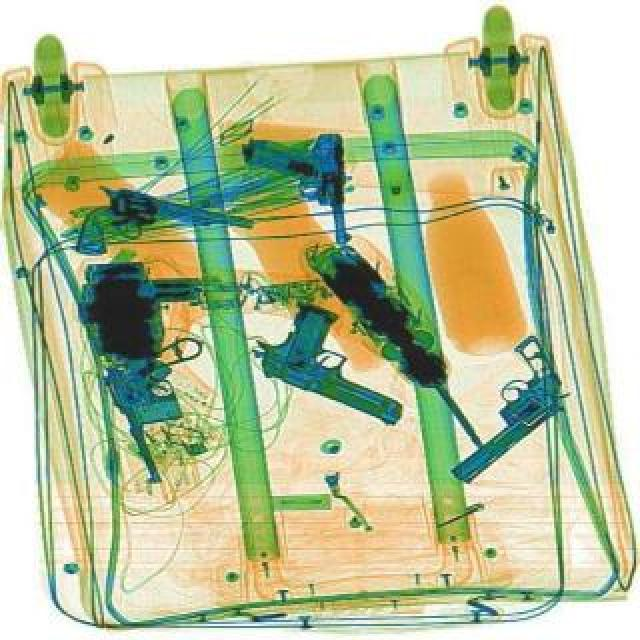gun: (408, 332, 588, 490), (242, 288, 432, 426), (72, 182, 252, 292), (236, 128, 352, 252), (106, 354, 206, 486)
